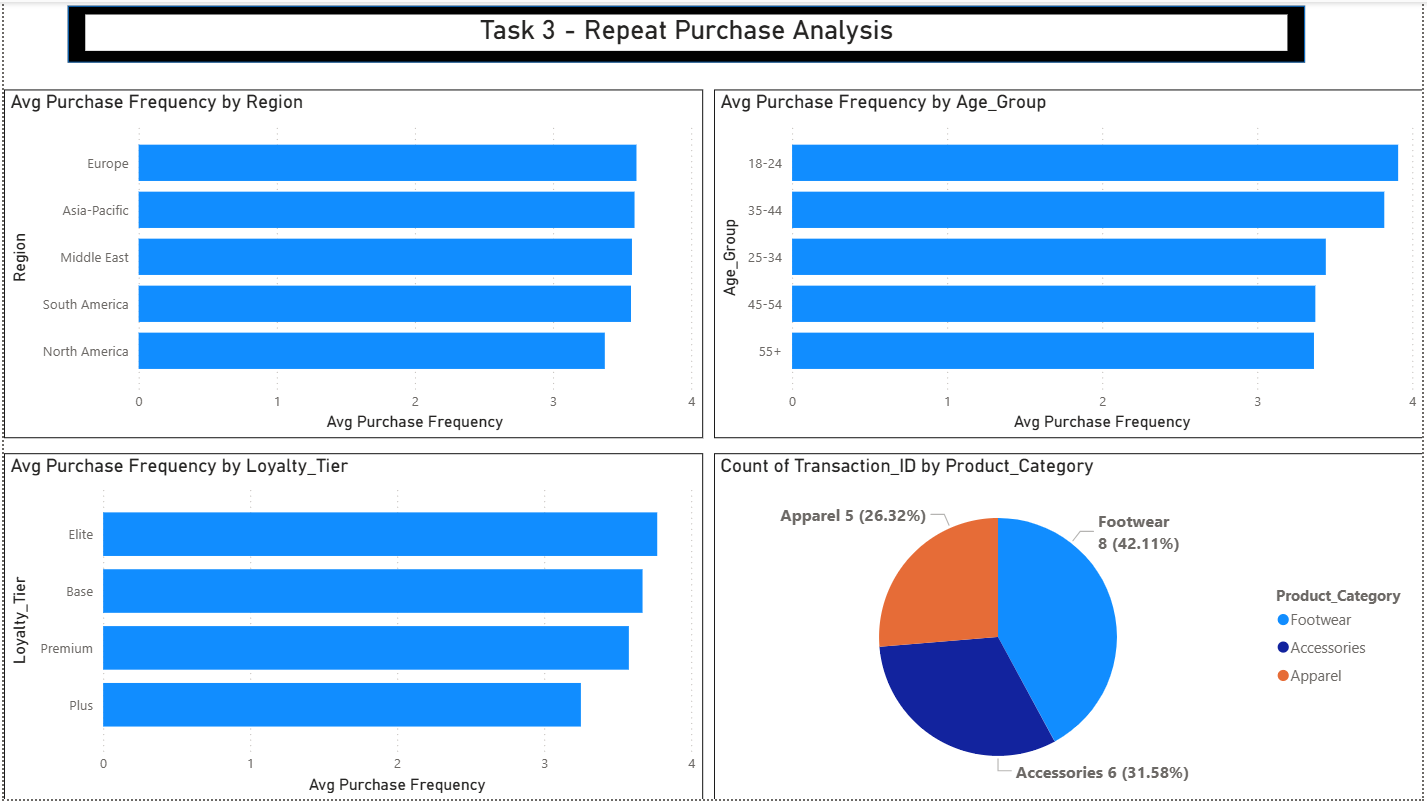

The dashboard page shown, as its layout file describes it:
{"tool":"powerbi","page":{"name":"Task 3 – Repeat Analysis","canvas":[1280,720],"ordinal":1},"visuals":[{"type":"clusteredBarChart","fields":{"Category":["Customer demographics adidas - Customer_Demographics.Region"],"Y":["Customer demographics adidas - Customer_Demographics.Avg Purchase Frequency"]},"box":[0,78.6,630,314.3],"z":0},{"type":"clusteredBarChart","fields":{"Category":["Customer demographics adidas - Customer_Demographics.Age_Group"],"Y":["Customer demographics adidas - Customer_Demographics.Avg Purchase Frequency"]},"box":[640,78.6,640,314.3],"z":1000},{"type":"clusteredBarChart","fields":{"Category":["Loyalty adidas metadata - Loyalty_Program.Loyalty_Tier"],"Y":["Customer demographics adidas - Customer_Demographics.Avg Purchase Frequency"]},"box":[0,407.1,630,312.9],"z":2000},{"type":"pieChart","fields":{"Category":["Adidas customer transactional  - Customer_Transactions.Product_Category"],"Y":["CountNonNull(Adidas customer transactional  - Customer_Transactions.Transaction_ID)"]},"box":[640,407.1,640,312.9],"z":3000},{"type":"shape","box":[57.1,2.9,1115.7,51.4],"z":3001},{"type":"textbox","title":"Task 3 - Repeat Purchase Analysis","box":[72.9,11.4,1084.3,32.9],"z":3002}]}

Visuals, with their boxes in screenshot pixels (x1, y1, x2, y2), scaled from the page's 1280x720 canvas onto the 1427x802 screenshot:
clusteredBarChart - Customer demographics adidas - Customer_Demographics.Region x Customer demographics adidas - Customer_Demographics.Avg Purchase Frequency: box=[0, 88, 702, 438]
clusteredBarChart - Customer demographics adidas - Customer_Demographics.Age_Group x Customer demographics adidas - Customer_Demographics.Avg Purchase Frequency: box=[714, 88, 1426, 438]
clusteredBarChart - Loyalty adidas metadata - Loyalty_Program.Loyalty_Tier x Customer demographics adidas - Customer_Demographics.Avg Purchase Frequency: box=[0, 453, 702, 801]
pieChart - Adidas customer transactional  - Customer_Transactions.Product_Category x CountNonNull(Adidas customer transactional  - Customer_Transactions.Transaction_ID): box=[714, 453, 1426, 801]
shape: box=[64, 3, 1307, 60]
"Task 3 - Repeat Purchase Analysis" textbox: box=[81, 13, 1290, 49]
